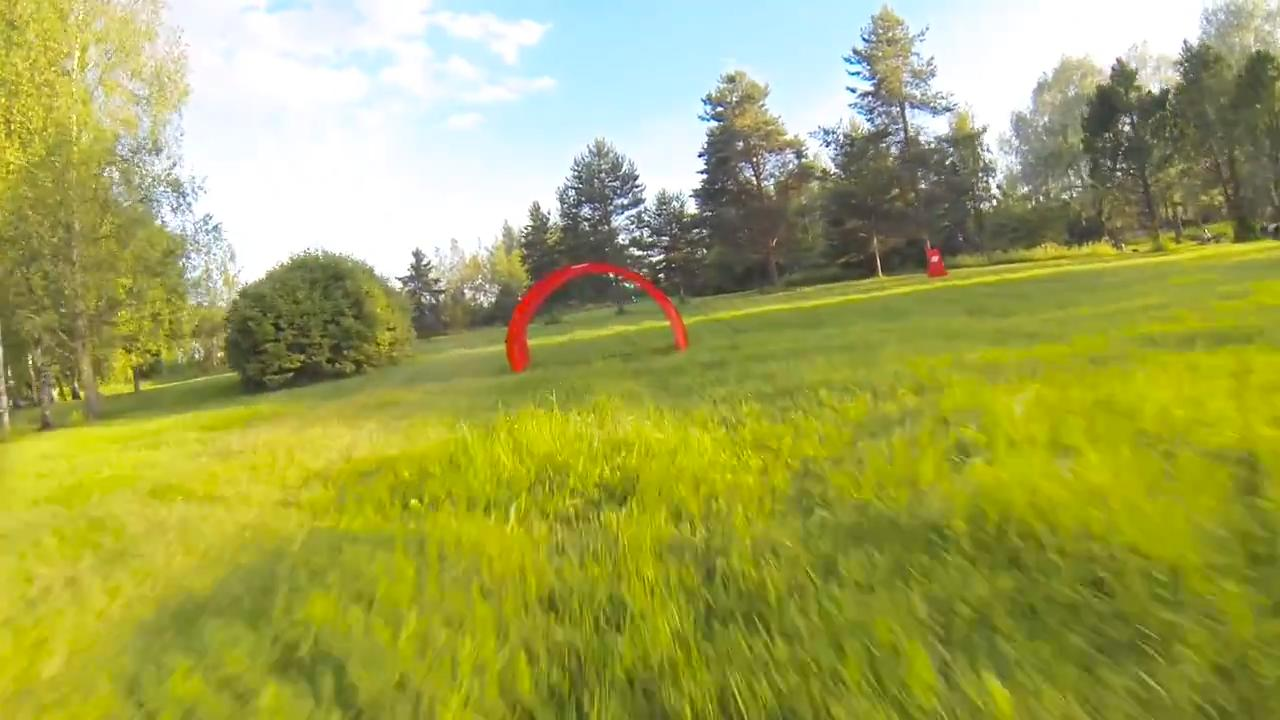gate: (503, 257, 695, 373)
